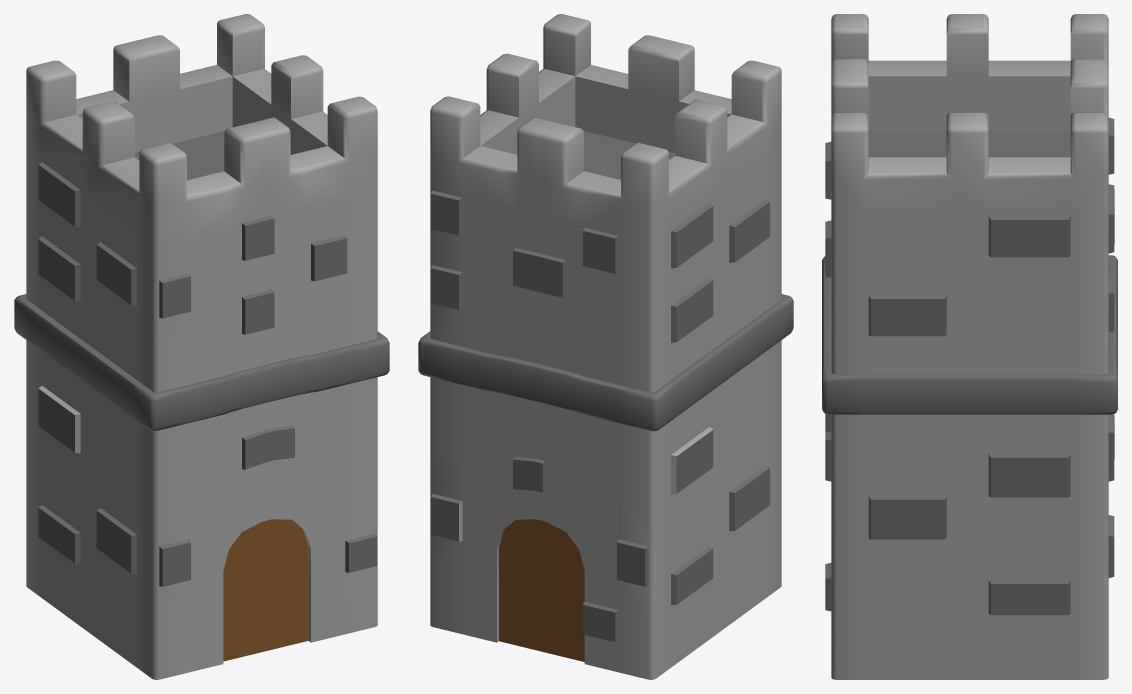
Rendered from watch tower level 2.fbx.
The picture shows the model from 3 angles, left to right: view 1: azimuth 30°, elevation 25°; view 2: azimuth 150°, elevation 25°; view 3: azimuth 270°, elevation 25°; orthographic projection. The views are drawn at different scales.
Visible parts, largest first — view 1: Cube.043; view 2: Cube.043; view 3: Cube.043.
Part boxes in pixels (bbox=[...]): Cube.043: bbox=[14, 14, 389, 679]; Cube.043: bbox=[418, 14, 793, 679]; Cube.043: bbox=[822, 14, 1117, 679].
Bounding box in the file's own units: 3202 × 6620 × 3220.
